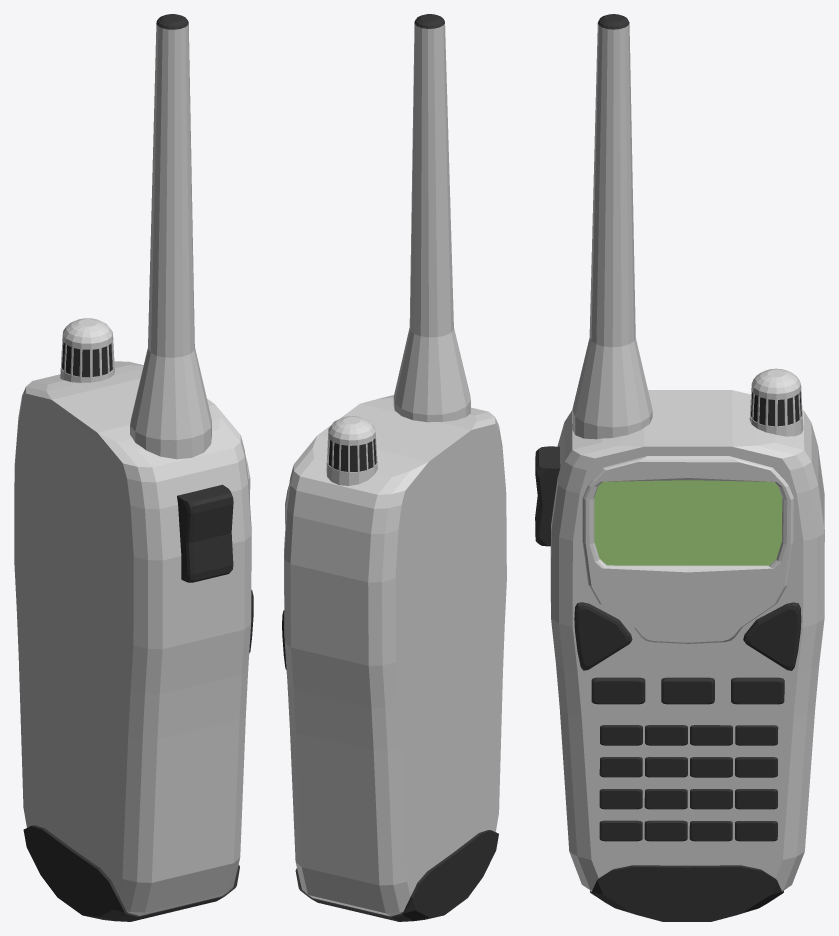
The model's file is Radio.fbx.
The picture shows the model from 3 angles, left to right: view 1: azimuth 30°, elevation 25°; view 2: azimuth 150°, elevation 25°; view 3: azimuth 270°, elevation 25°; orthographic projection. The views are drawn at different scales.
Parts seen in each view (by area): view 1: Radio; view 2: Radio; view 3: Radio.
Part boxes in pixels (x1,y1,x2,y2): Radio: (14, 14, 253, 921); Radio: (282, 14, 506, 921); Radio: (535, 14, 824, 921).
Size of the model in its own units: 3.48 by 22.85 by 6.85.
